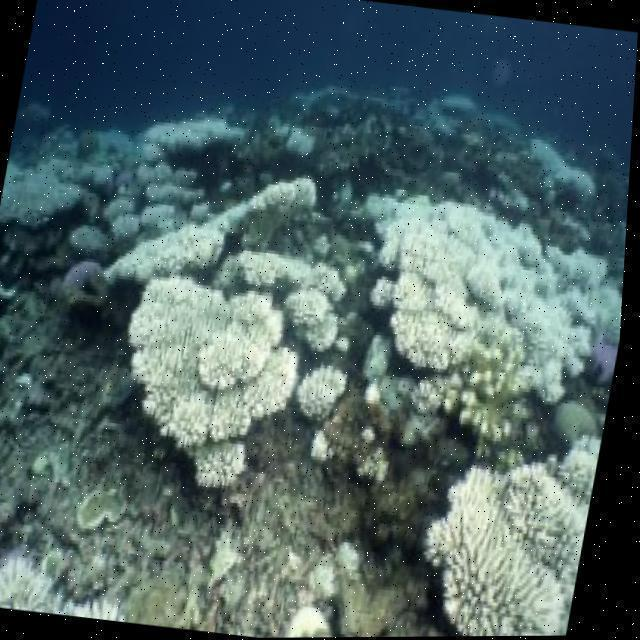Bleached Coral: (95, 217, 389, 508), (344, 173, 632, 420), (0, 70, 265, 289), (417, 403, 610, 638)
